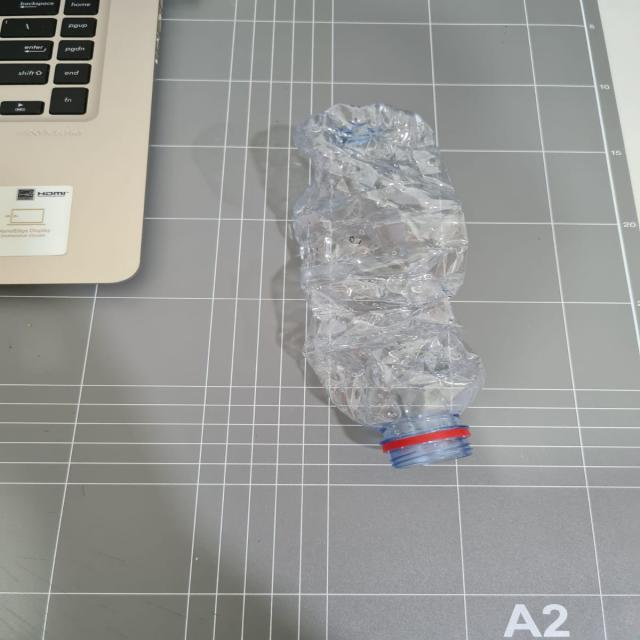bottle: (276, 94, 494, 484)
